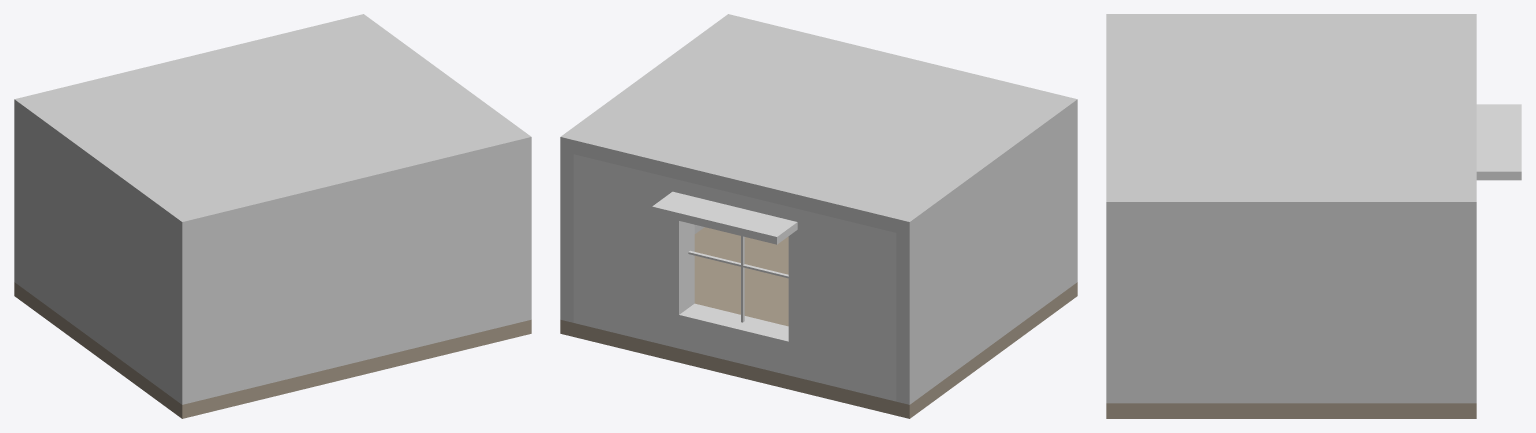
The model's file is room.glb.
The picture shows the model from 3 angles, left to right: view 1: azimuth 30°, elevation 25°; view 2: azimuth 150°, elevation 25°; view 3: azimuth 270°, elevation 25°; orthographic projection. The views are drawn at different scales.
Visible parts, largest first — view 1: Mesh_6, Mesh_3, Mesh_4, Mesh_7, Mesh_5; view 2: Mesh_6, Mesh_8, Mesh_4, Mesh_7, Mesh_2, Mesh_5; view 3: Mesh_6, Mesh_5, Mesh_7, Mesh_2.
Boxes of the visible parts, x1=… form: Mesh_6: x1=14, y1=14, x2=531, y2=235; Mesh_3: x1=195, y1=154, x2=518, y2=401; Mesh_4: x1=14, y1=113, x2=195, y2=404; Mesh_7: x1=14, y1=282, x2=531, y2=418; Mesh_5: x1=518, y1=151, x2=531, y2=322; Mesh_6: x1=560, y1=14, x2=1077, y2=235; Mesh_8: x1=573, y1=154, x2=896, y2=401; Mesh_4: x1=896, y1=113, x2=1077, y2=404; Mesh_7: x1=560, y1=227, x2=1077, y2=418; Mesh_2: x1=652, y1=191, x2=797, y2=244; Mesh_5: x1=560, y1=151, x2=704, y2=322; Mesh_6: x1=1106, y1=14, x2=1476, y2=217; Mesh_5: x1=1106, y1=217, x2=1476, y2=403; Mesh_7: x1=1106, y1=403, x2=1476, y2=418; Mesh_2: x1=1476, y1=104, x2=1521, y2=180.
Bounding box in the file's own units: 1.98 × 1.07 × 1.85.
